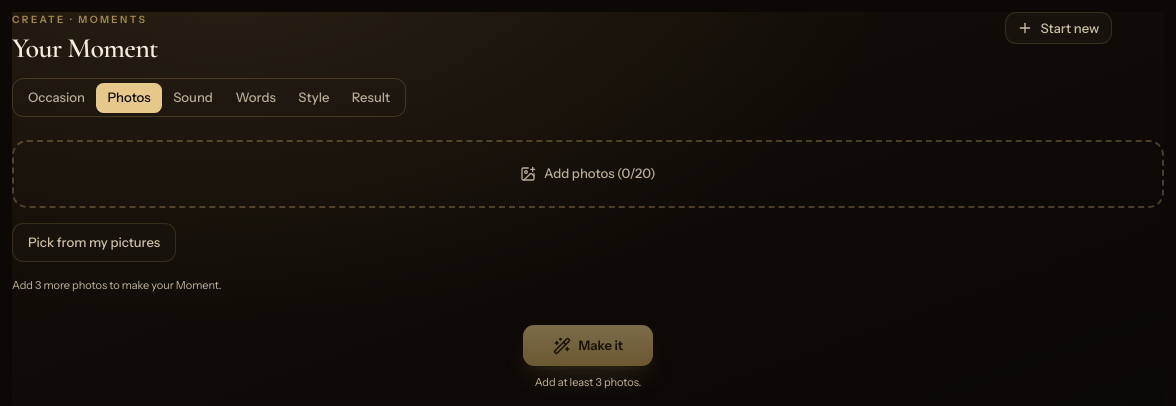
MomentsPage shell › Start new returns to the list
Click the button "Start new".
click(1058, 28)  # box [1005,12,1112,44]
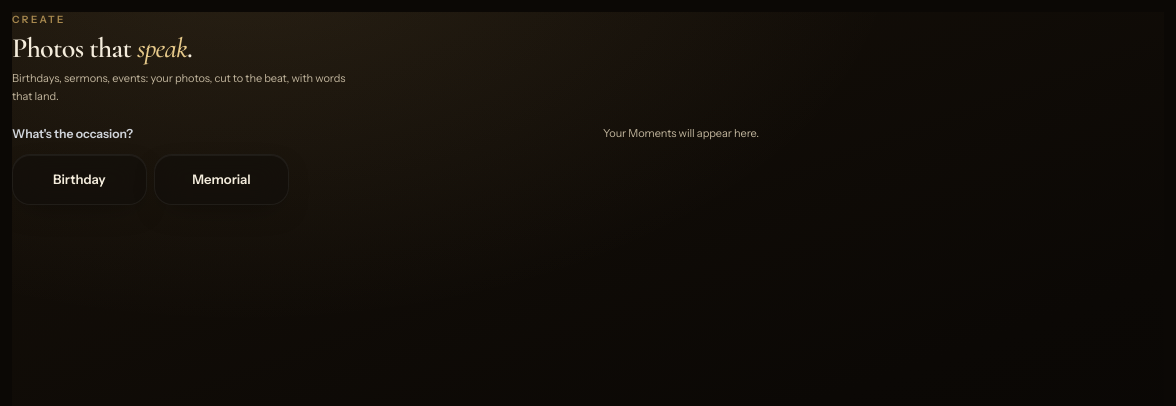
Check: the button "Birthday" is shown, box [12,154,147,205]
